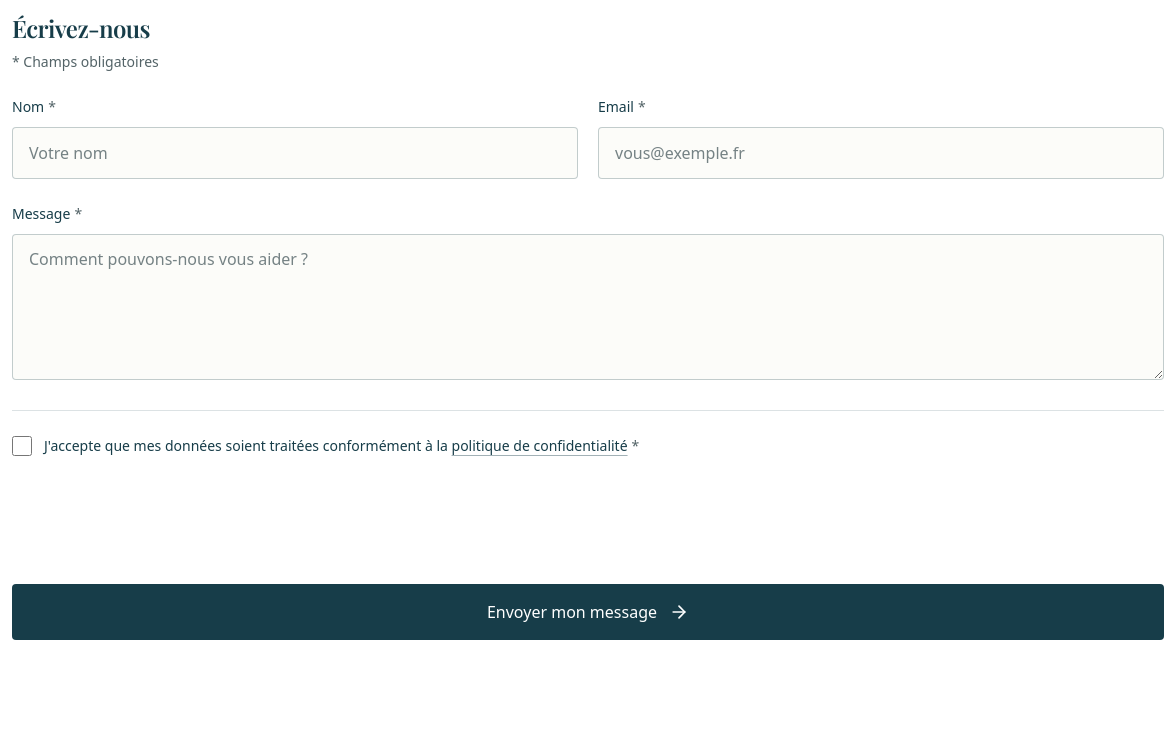
form interaction contracts › keeps the submission error visible when a new Turnstile token arrives
In the field labelled "Nom*": [295, 153] box [12,127,578,179], type "Doe"
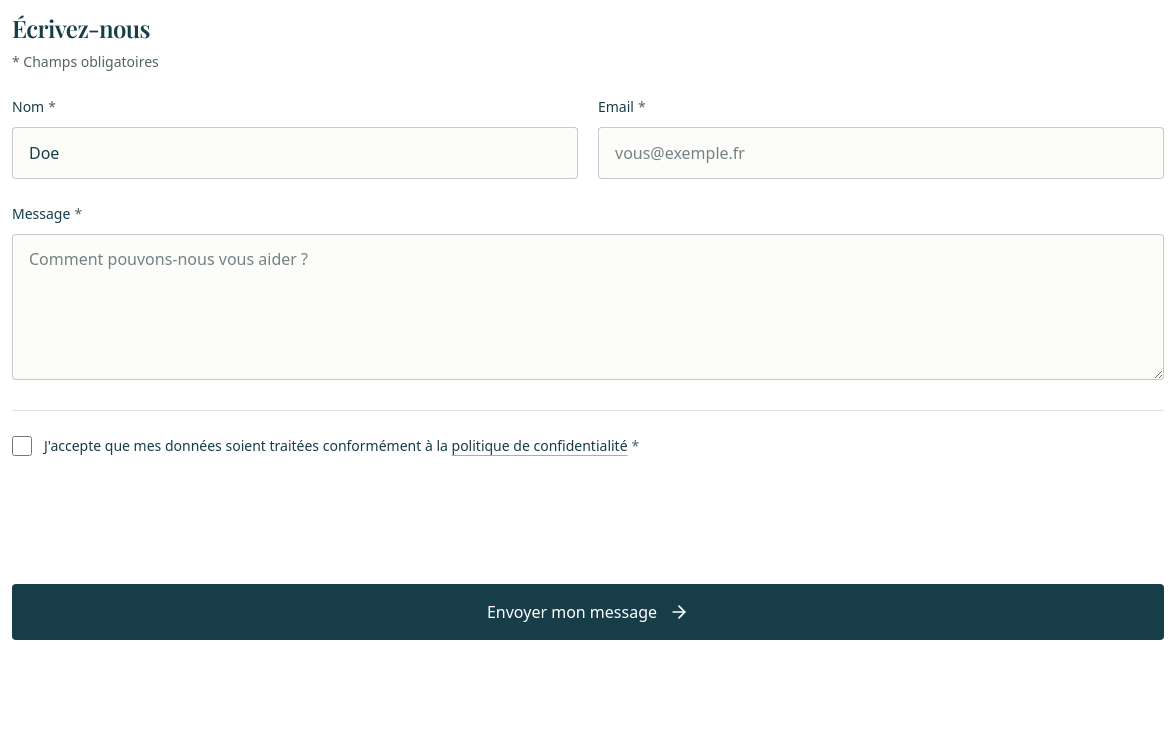
In the field labelled "Email*": [881, 153] box [598,127,1164,179], type "jane@example.com"
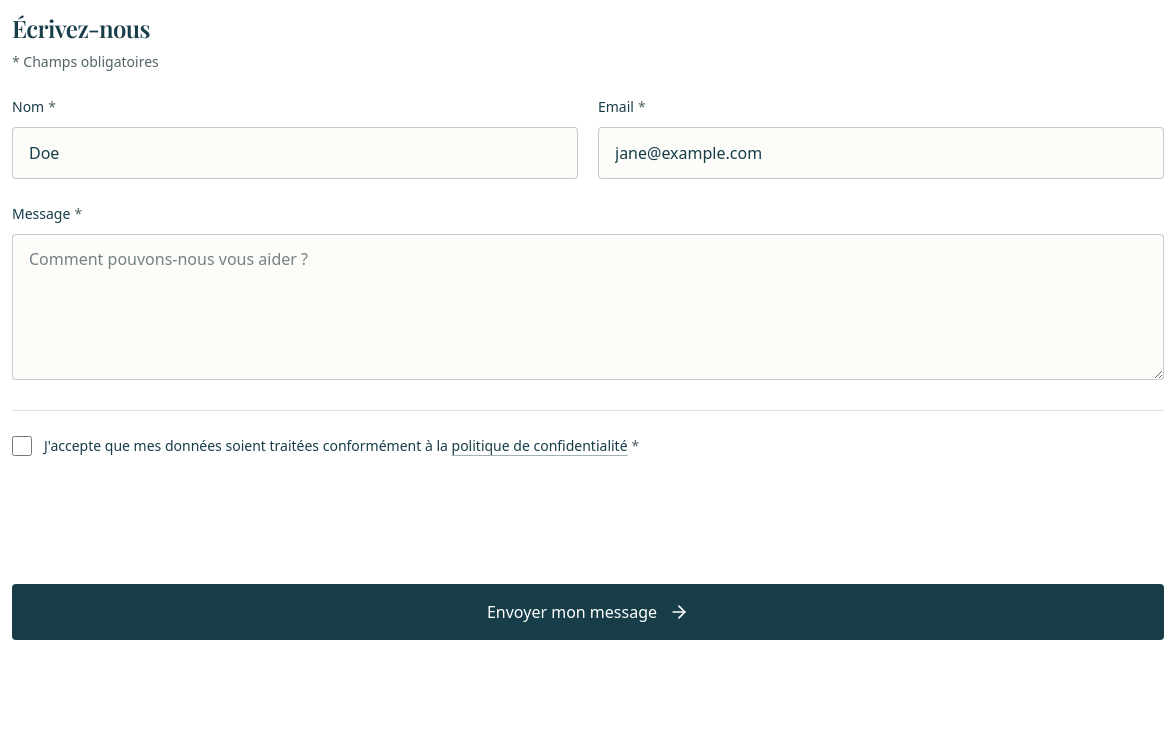
In the text box labelled "Message*": [588, 306] box [12,234,1164,380], type "Question about my accommodation"
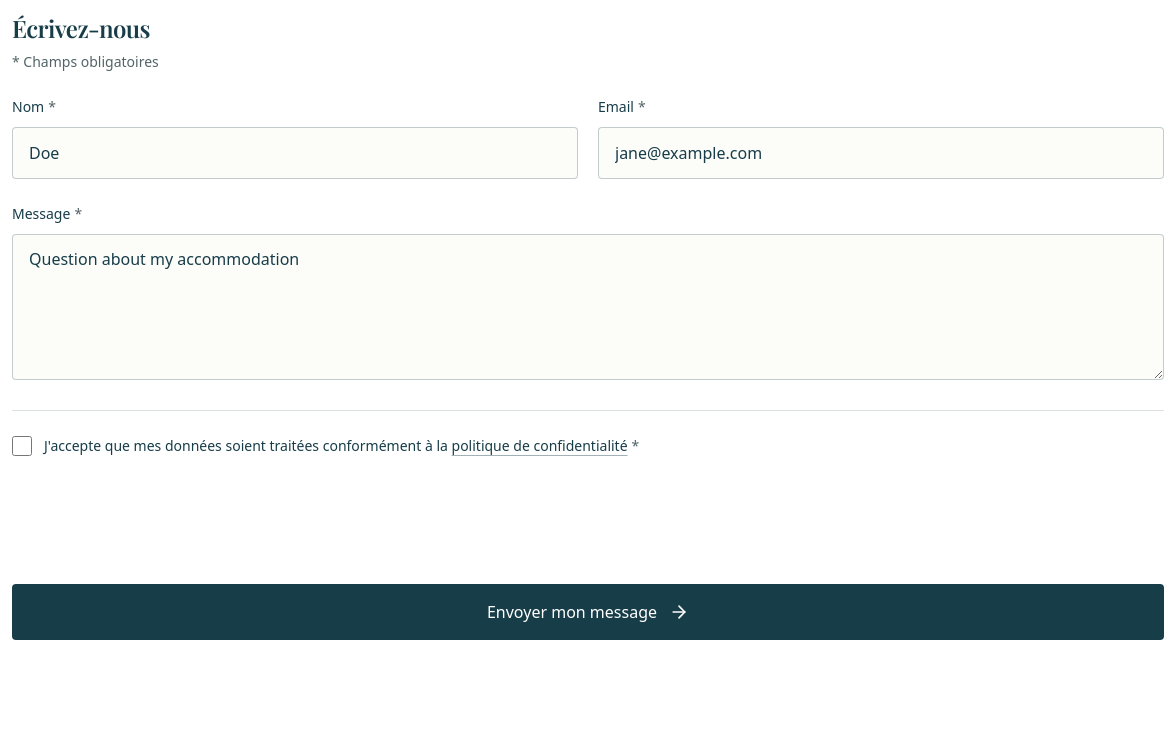
Click the checkbox: [22, 446] box [12,436,32,456]
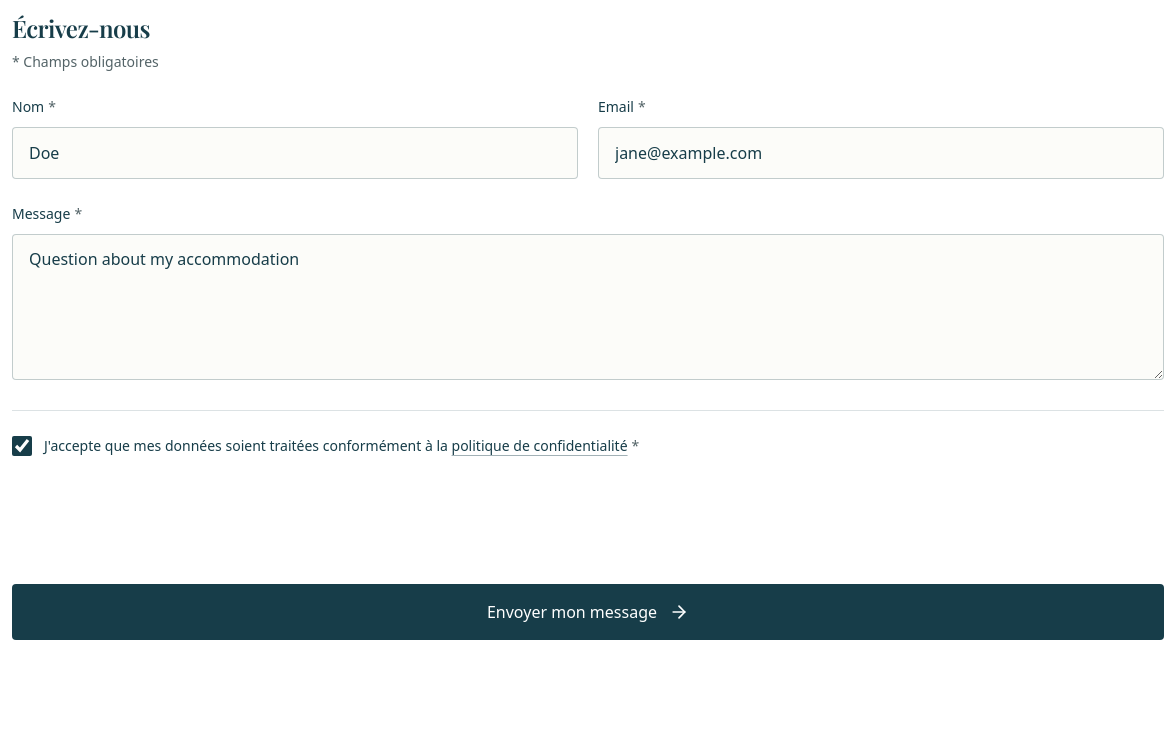
Submit the form
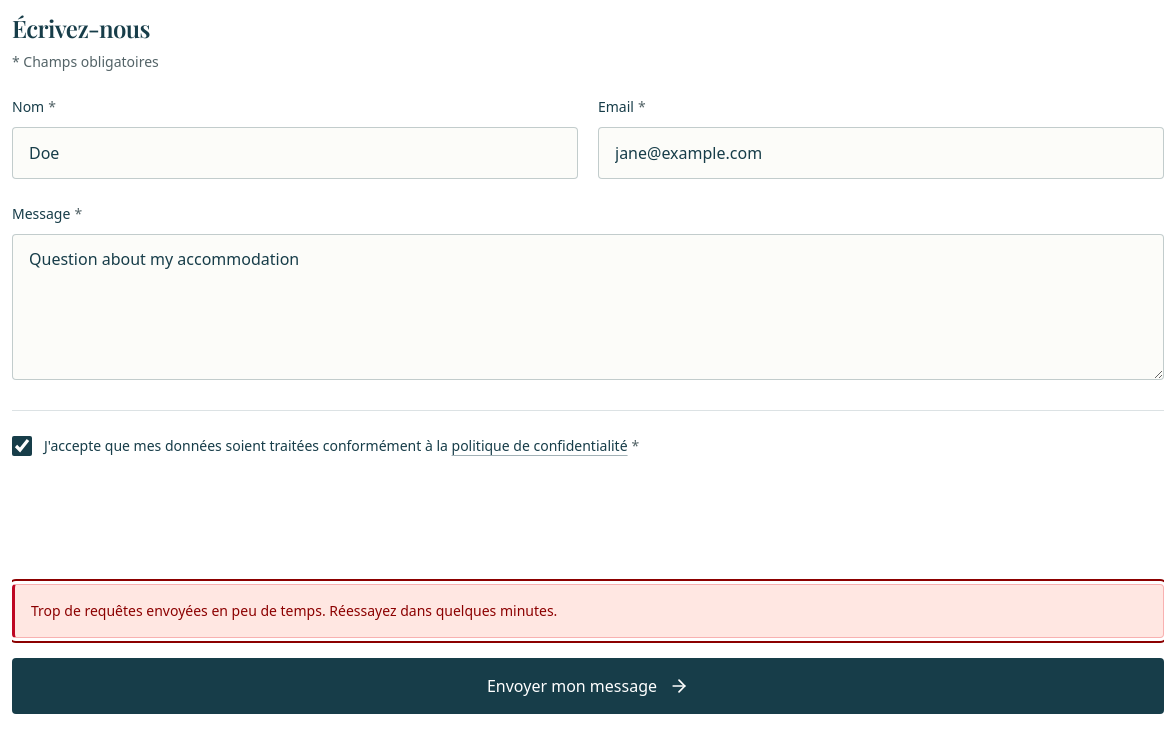
Now the message "Trop de requêtes envoyées en peu de temps. Réessayez dans quelques minutes." is shown, box [12,584,1164,638]
Now the message reads "Trop de requêtes envoyées en peu de temps. Réessayez dans quelques minutes.", box [31,600,557,620]
Replace the text in the text box labelled "Message*" with "Une précision": [588, 306] box [12,234,1164,380]
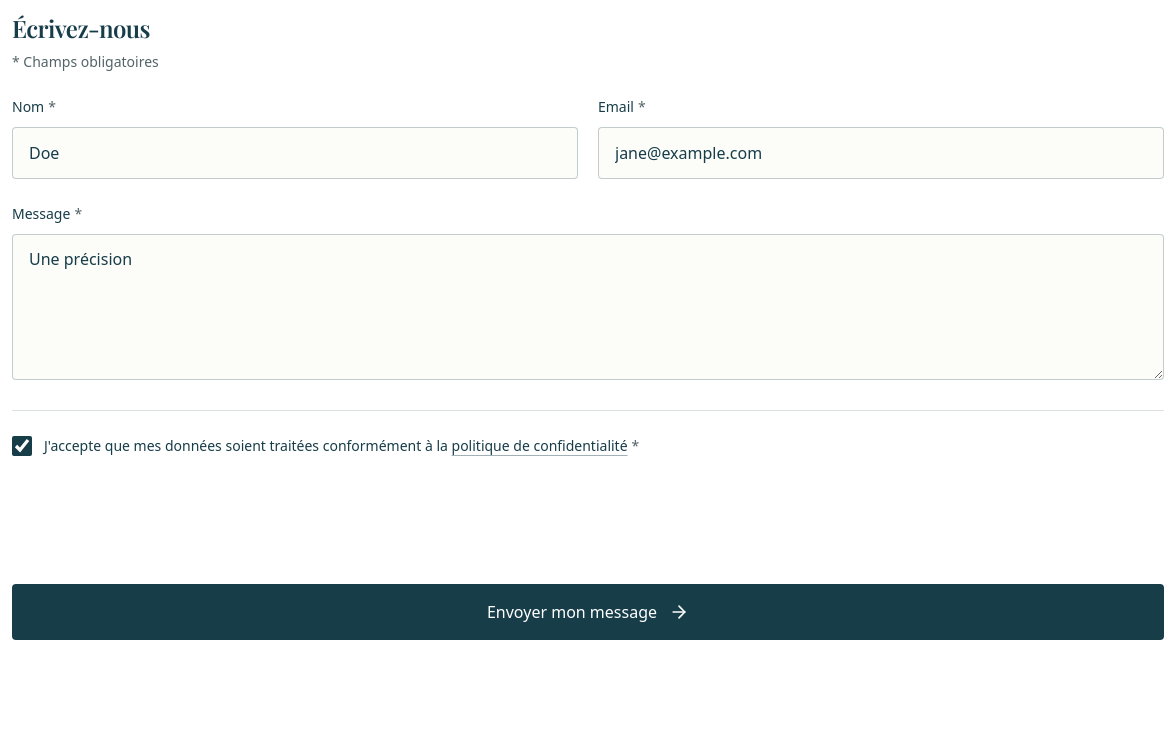
Now the message "Trop de requêtes envoyées en peu de temps. Réessayez dans quelques minutes." is gone
